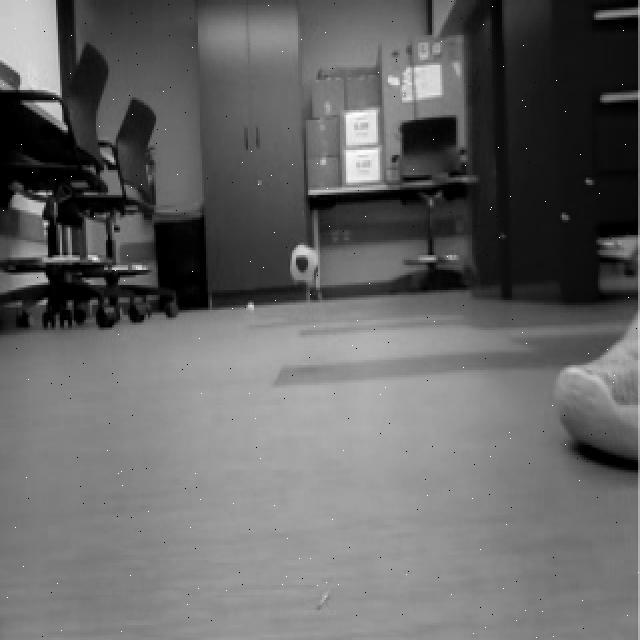ping-pong-ball: (288, 237, 322, 286), (244, 298, 259, 320)
